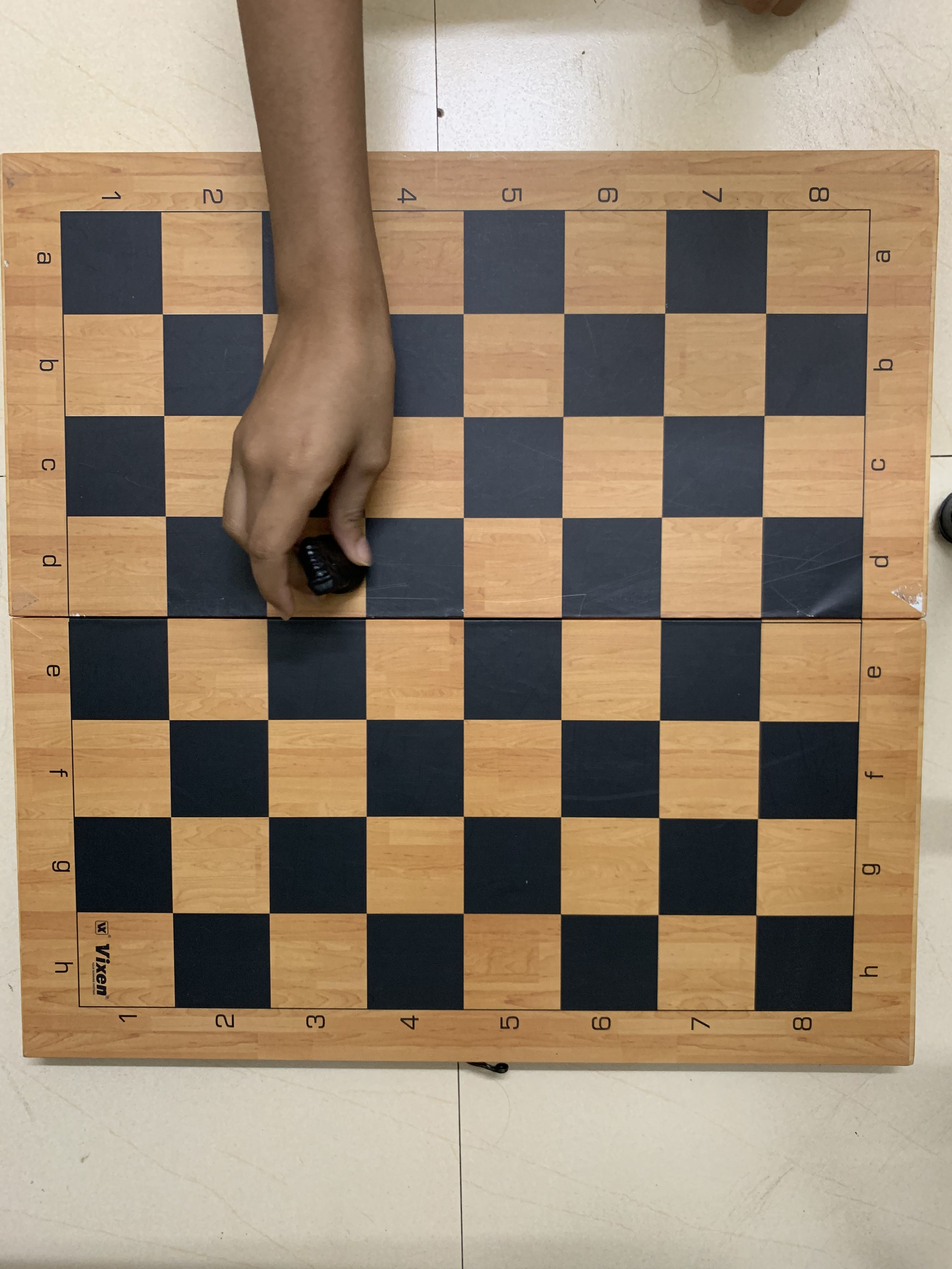black_knight: (278, 514, 371, 612)
